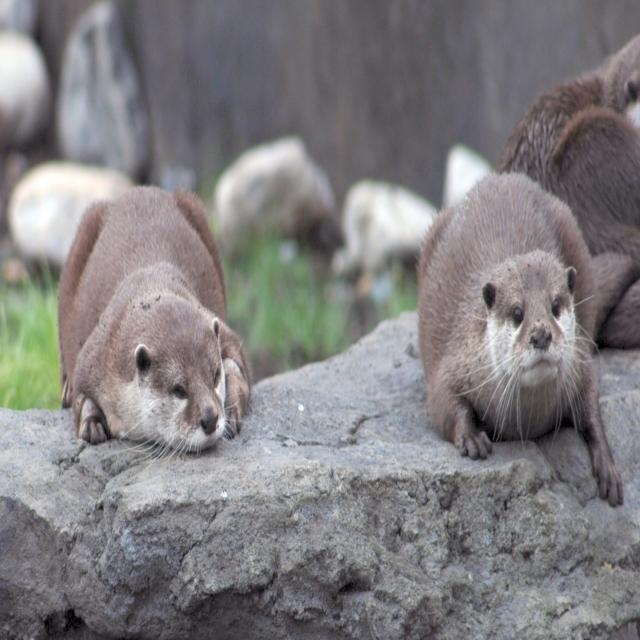otter: (419, 173, 624, 511), (57, 185, 249, 455)
